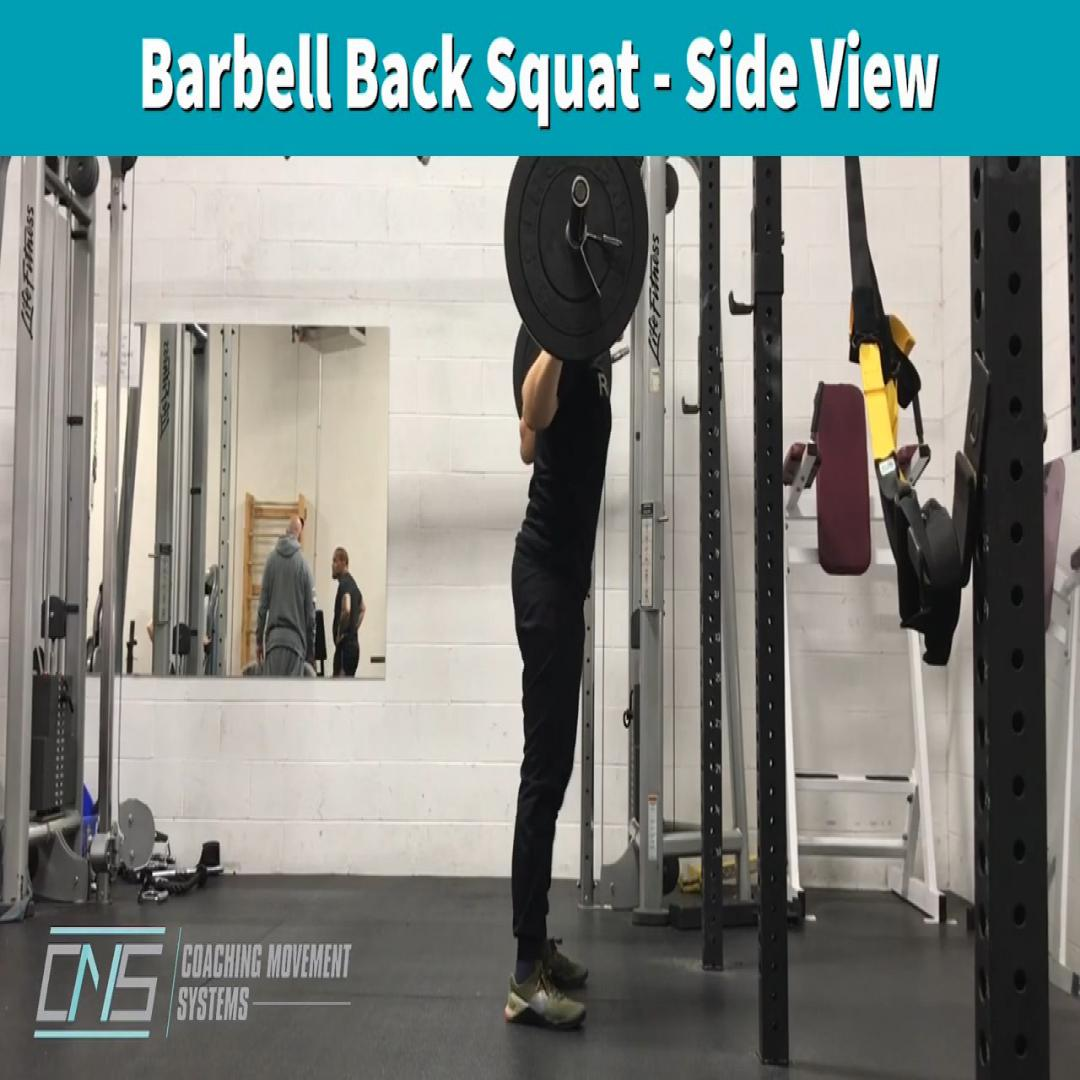Bar: (569, 172, 591, 210)
Barbell: (502, 156, 650, 364)
